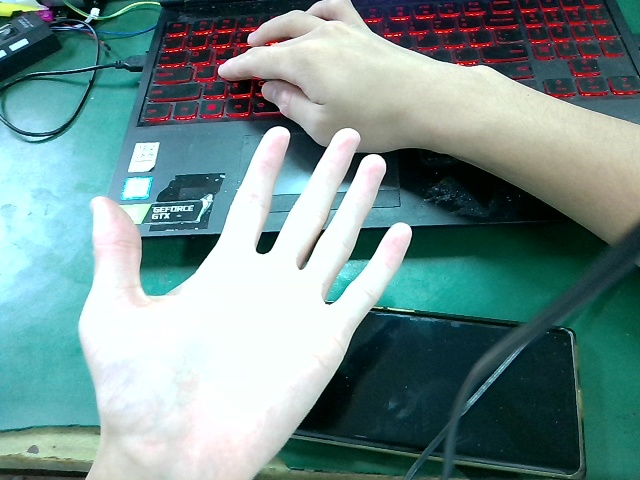paper: (72, 119, 400, 480)
